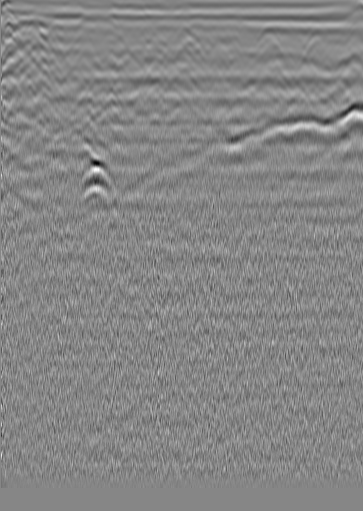가스: (78, 157, 114, 186)
상수: (307, 31, 327, 51)
오수: (31, 36, 51, 56)
우수: (177, 23, 197, 43)
